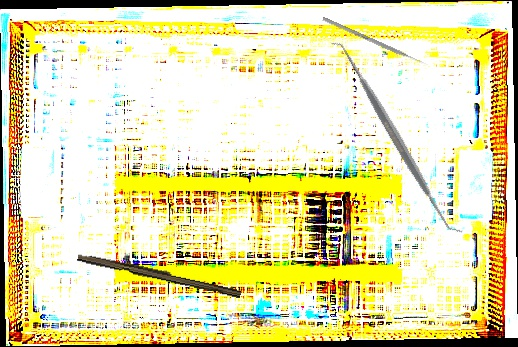Pusher: (322, 16, 429, 68)
Scalpel Handle: (76, 250, 243, 299)
Spatula Surgical: (328, 32, 465, 244)
